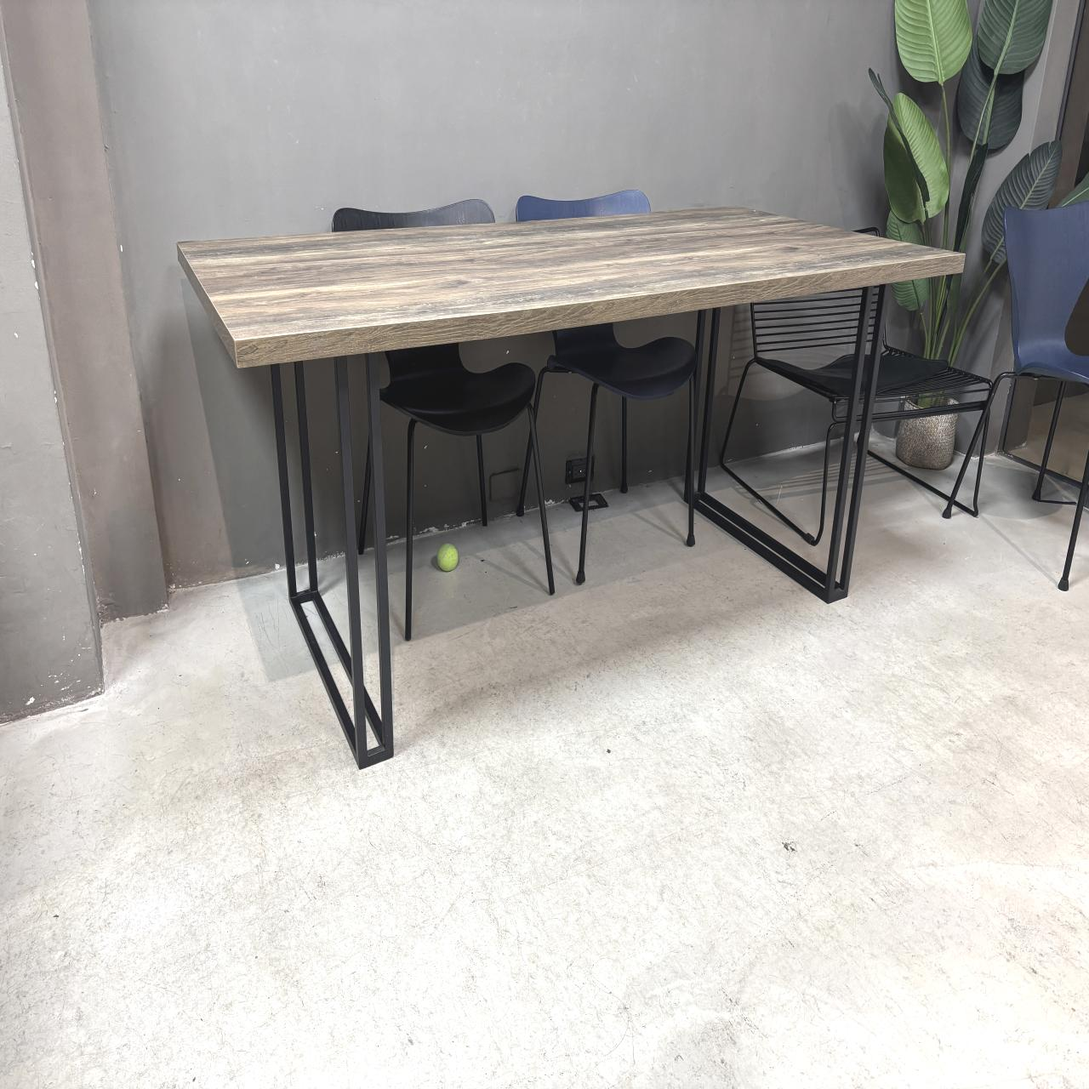tennisball: (436, 544, 458, 571)
